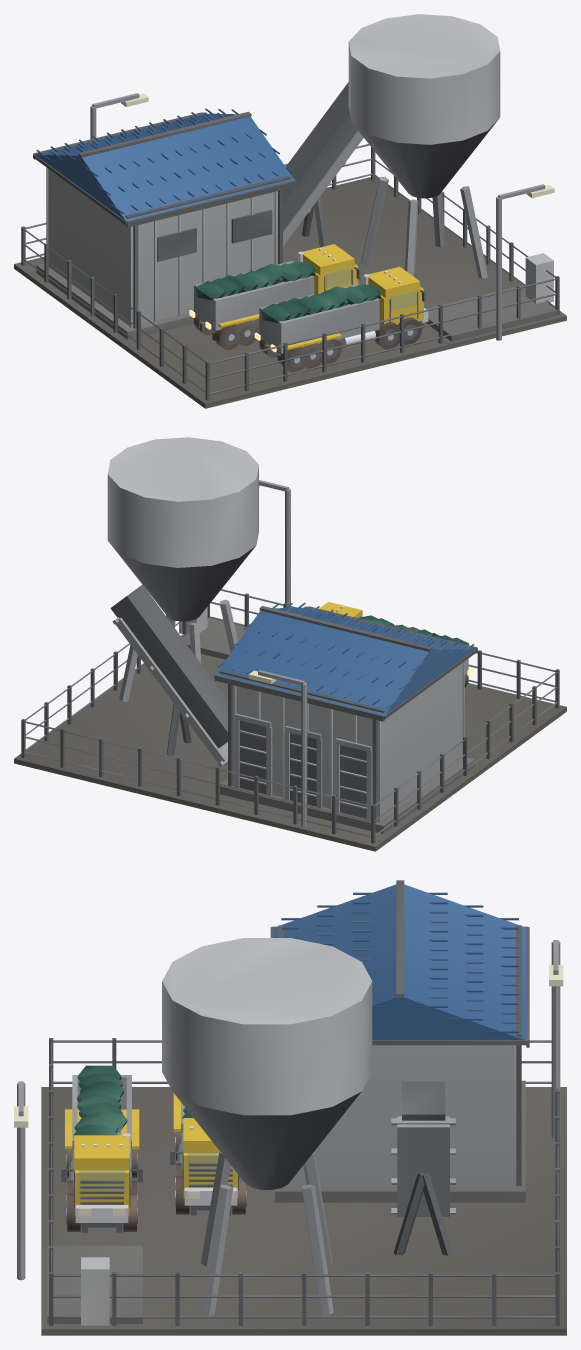
The model's file is Haul_P2.fbx.
3 renders of one model, top to bottom at view 1: azimuth 30°, elevation 25°; view 2: azimuth 150°, elevation 25°; view 3: azimuth 270°, elevation 25°, orthographic. The views are drawn at different scales.
Visible parts, largest first — view 1: Haul.Workshop, Haul.Hopper, Haul.Yard, Haul.Parked1, Haul.Fence, Haul.Parked0, Haul.Conv, Haul.Weighbridge, Haul.Lamp0, Haul.Lamp1; view 2: Haul.Workshop, Haul.Hopper, Haul.Yard, Haul.Fence, Haul.Conv, Haul.Weighbridge, Haul.Lamp1, Haul.Parked1, Haul.Lamp0; view 3: Haul.Yard, Haul.Workshop, Haul.Hopper, Haul.Parked1, Haul.Fence, Haul.Conv, Haul.Weighbridge, Haul.Parked0, Haul.Lamp1, Haul.Lamp0.
Boxes of the visible parts, bbox=[...] form: Haul.Workshop: bbox=[33, 108, 296, 339]; Haul.Hopper: bbox=[348, 14, 500, 278]; Haul.Yard: bbox=[14, 177, 566, 408]; Haul.Parked1: bbox=[254, 266, 428, 372]; Haul.Fence: bbox=[21, 144, 559, 400]; Haul.Parked0: bbox=[189, 244, 360, 349]; Haul.Conv: bbox=[283, 82, 363, 247]; Haul.Weighbridge: bbox=[425, 253, 557, 341]; Haul.Lamp0: bbox=[496, 184, 554, 340]; Haul.Lamp1: bbox=[90, 93, 148, 139]; Haul.Workshop: bbox=[214, 602, 477, 833]; Haul.Hopper: bbox=[107, 437, 258, 701]; Haul.Yard: bbox=[14, 636, 566, 851]; Haul.Fence: bbox=[21, 589, 559, 843]; Haul.Conv: bbox=[110, 584, 227, 766]; Haul.Weighbridge: bbox=[179, 607, 248, 659]; Haul.Lamp1: bbox=[248, 670, 307, 826]; Haul.Parked1: bbox=[319, 602, 473, 687]; Haul.Lamp0: bbox=[259, 480, 290, 607]; Haul.Yard: bbox=[41, 1087, 566, 1335]; Haul.Workshop: bbox=[270, 880, 529, 1202]; Haul.Hopper: bbox=[162, 938, 372, 1315]; Haul.Parked1: bbox=[61, 1065, 142, 1232]; Haul.Fence: bbox=[49, 1038, 559, 1325]; Haul.Conv: bbox=[391, 1081, 455, 1255]; Haul.Weighbridge: bbox=[47, 1245, 142, 1325]; Haul.Parked0: bbox=[170, 1093, 246, 1215]; Haul.Lamp1: bbox=[549, 940, 563, 1138]; Haul.Lamp0: bbox=[14, 1081, 28, 1280].
Size of the model in its own units: 2429 by 1456 by 2315.
